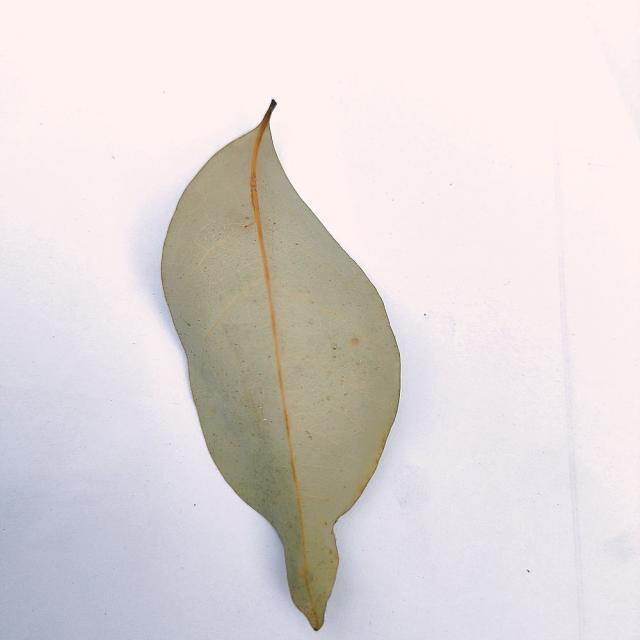Dry_Leaf-Lychee: (159, 108, 402, 632)
